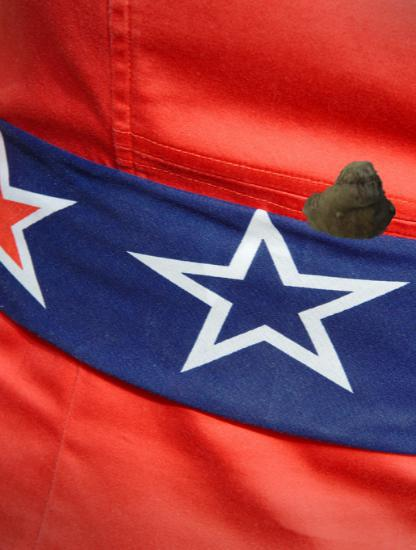Ginger: (302, 155, 395, 248)
